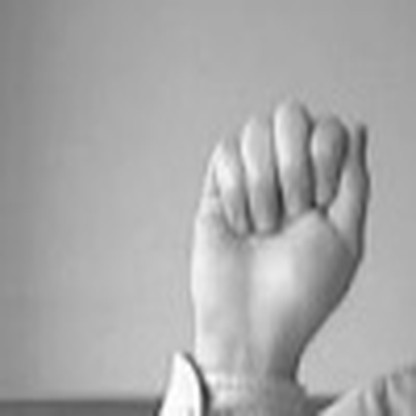a: (167, 92, 392, 324)
